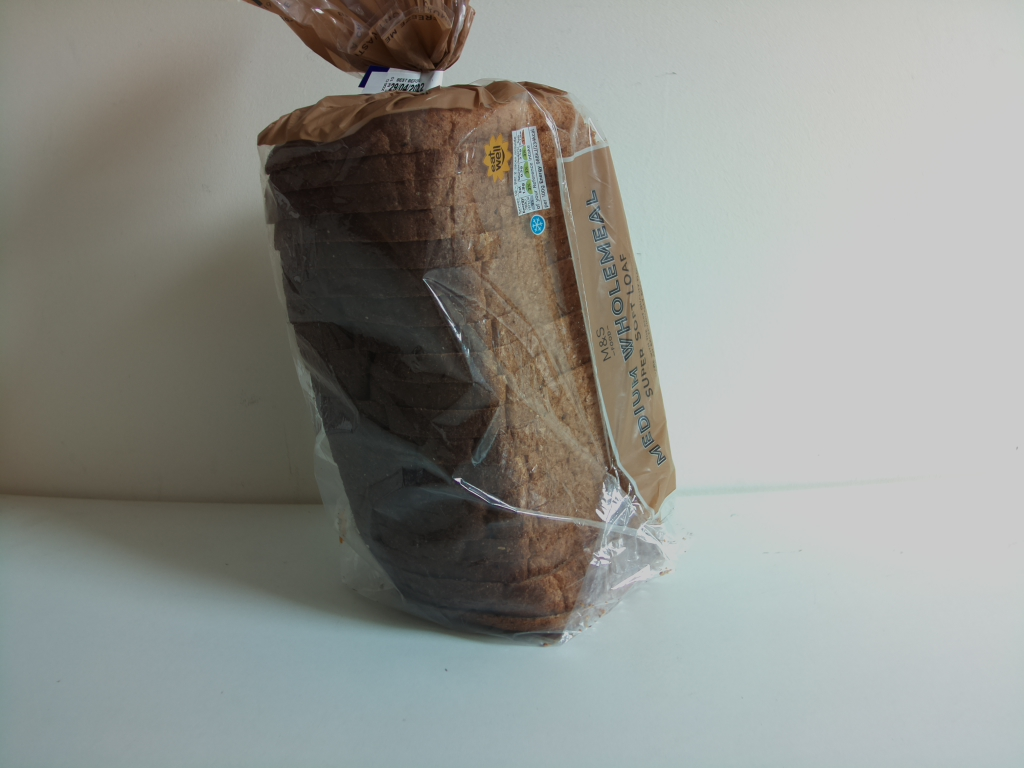bread: (240, 1, 680, 652)
